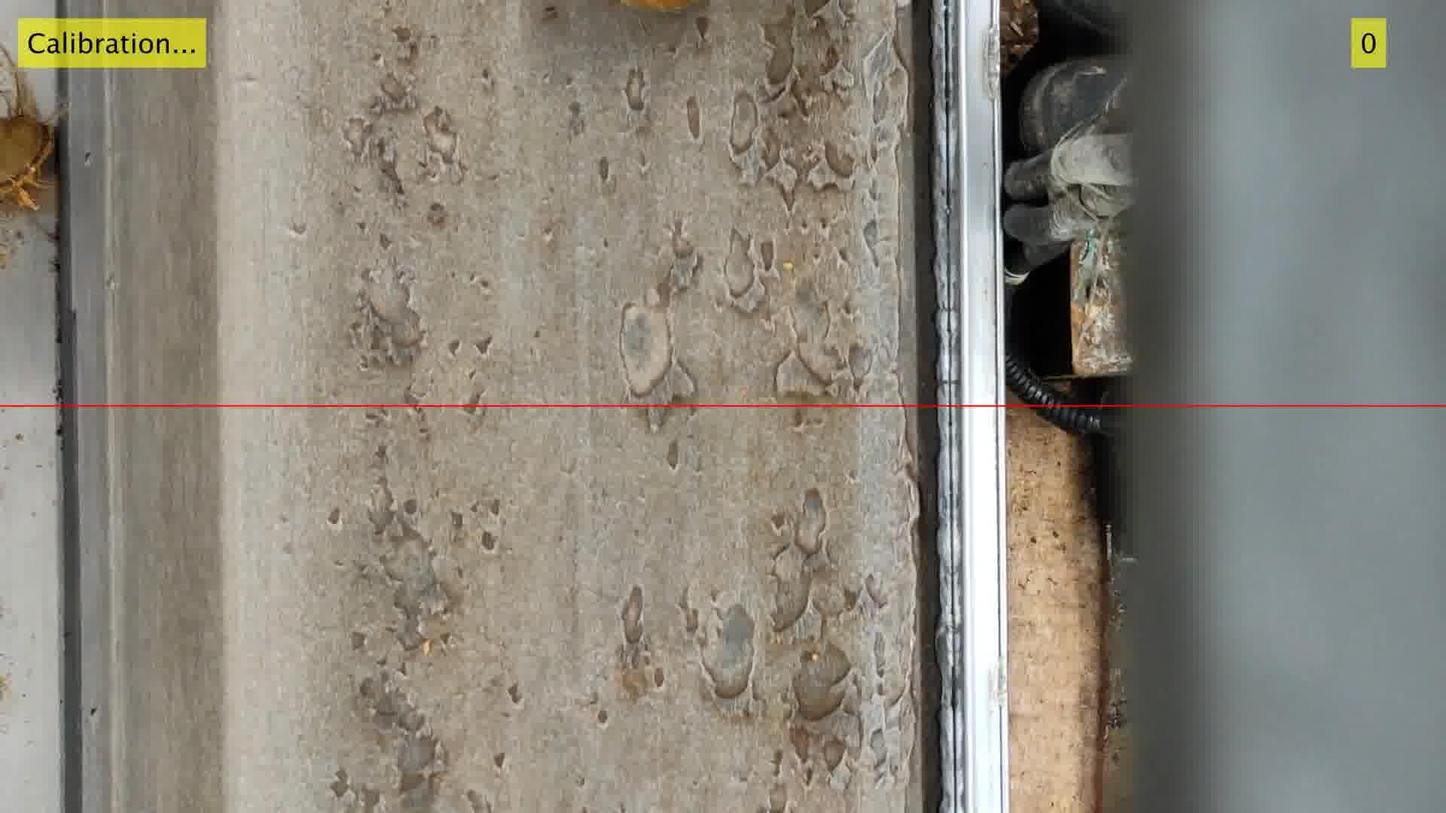Coconut: (0, 46, 60, 212), (617, 0, 709, 20)
